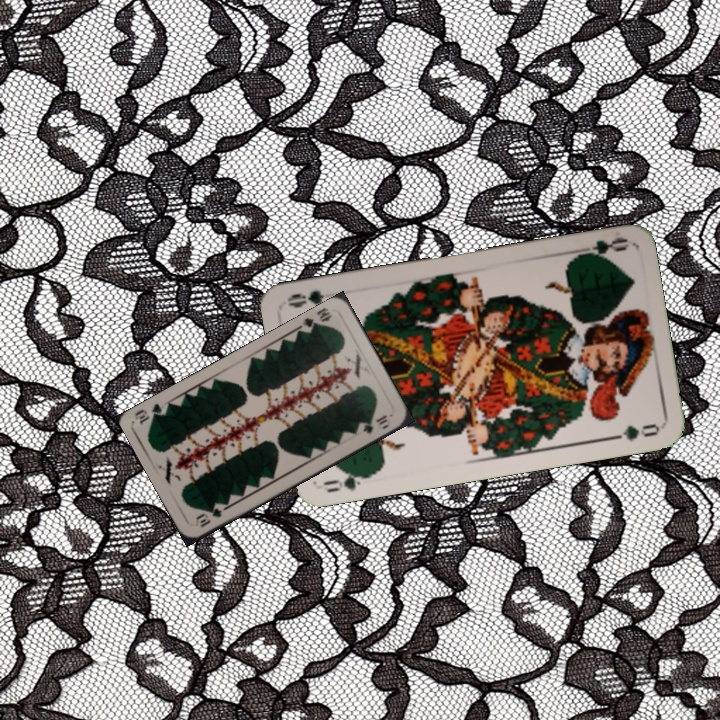G10: (300, 304, 335, 336), (192, 504, 224, 530)
GO: (570, 232, 630, 262), (319, 467, 374, 495)
